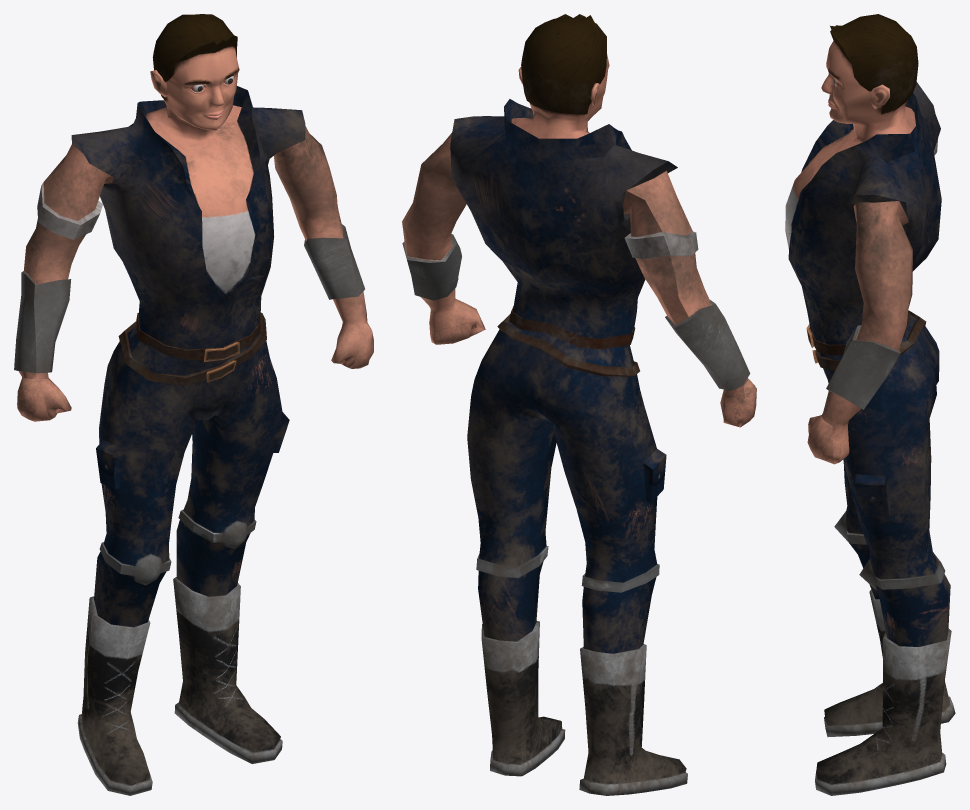
The model's file is Anim_coger_objeto_jugador.0040.obj.
3 views of the same model, side by side, from view 1: azimuth 30°, elevation 25°; view 2: azimuth 150°, elevation 25°; view 3: azimuth 270°, elevation 25° (orthographic).
Parts seen in each view (by area): view 1: polySurface1; view 2: polySurface1; view 3: polySurface1.
Part boxes in pixels (x1=…): polySurface1: x1=14, y1=14, x2=373, y2=795; polySurface1: x1=402, y1=14, x2=756, y2=795; polySurface1: x1=785, y1=14, x2=955, y2=795.
Size of the model in its own units: 4.7 by 9.81 by 2.01.
